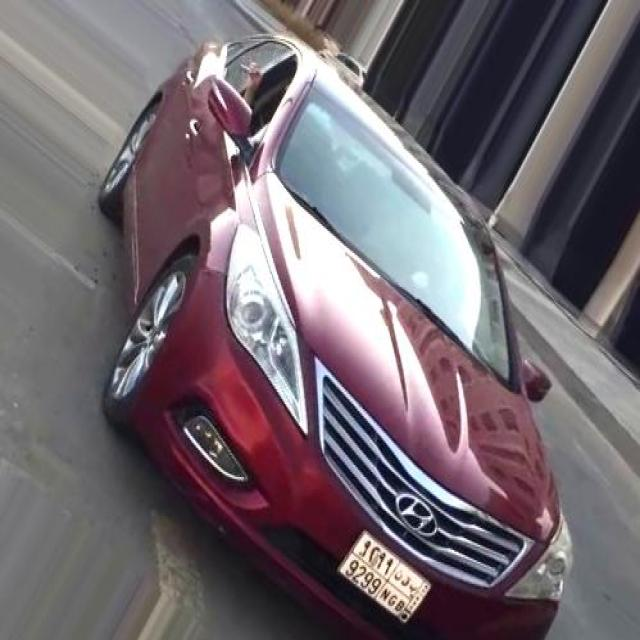Car-plate: (325, 514, 438, 635)
